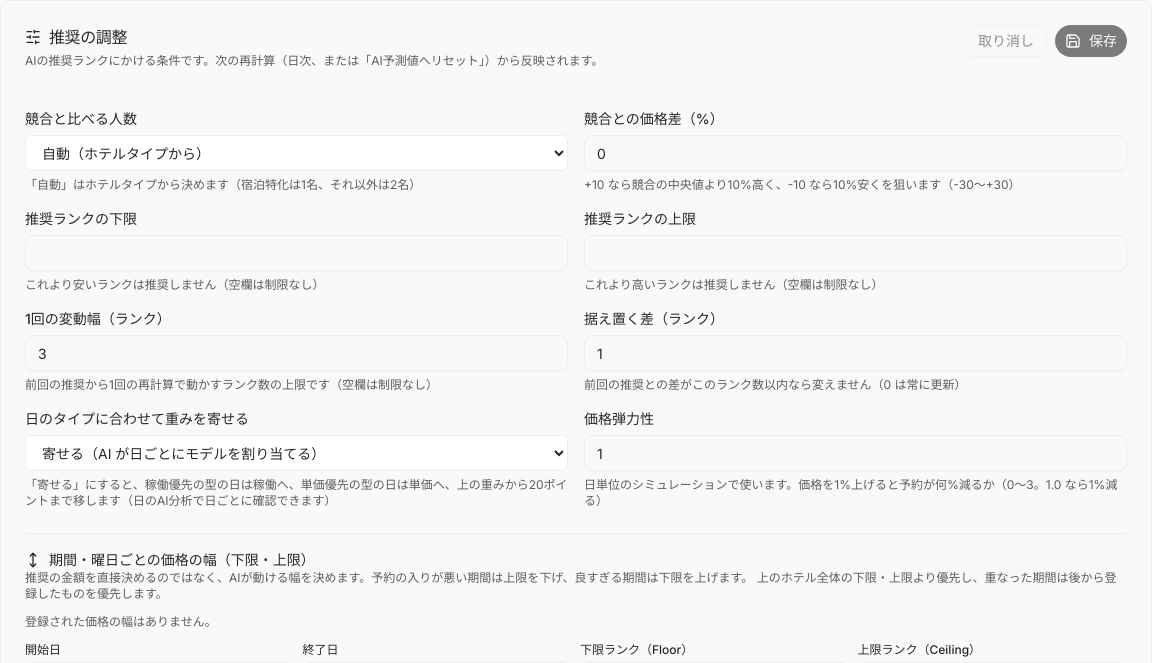
Test: StrategyGuardrailsCard（#17） › 入力が不正なら保存できずエラーを出す
Replace the text in the field labelled "競合との価格差（%）" with "50" at (856, 153), box [584, 135, 1127, 171]
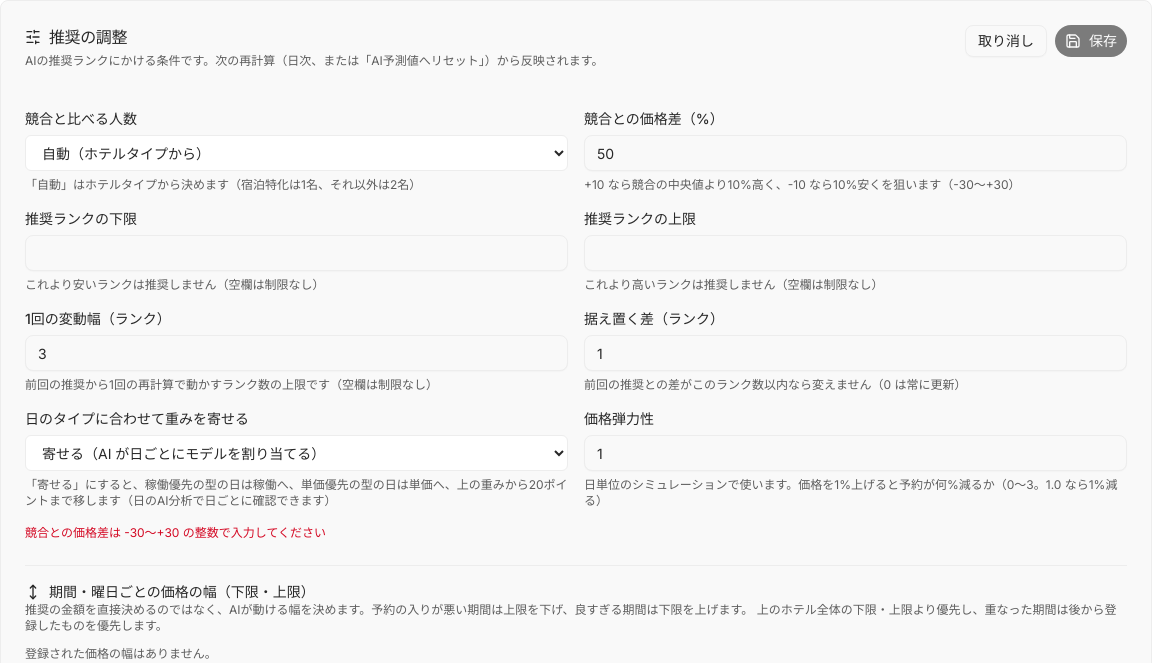
Expected: the button "保存" is disabled, [1055, 25, 1127, 57]
Expected: the message shows "-30〜+30", [25, 525, 326, 540]
